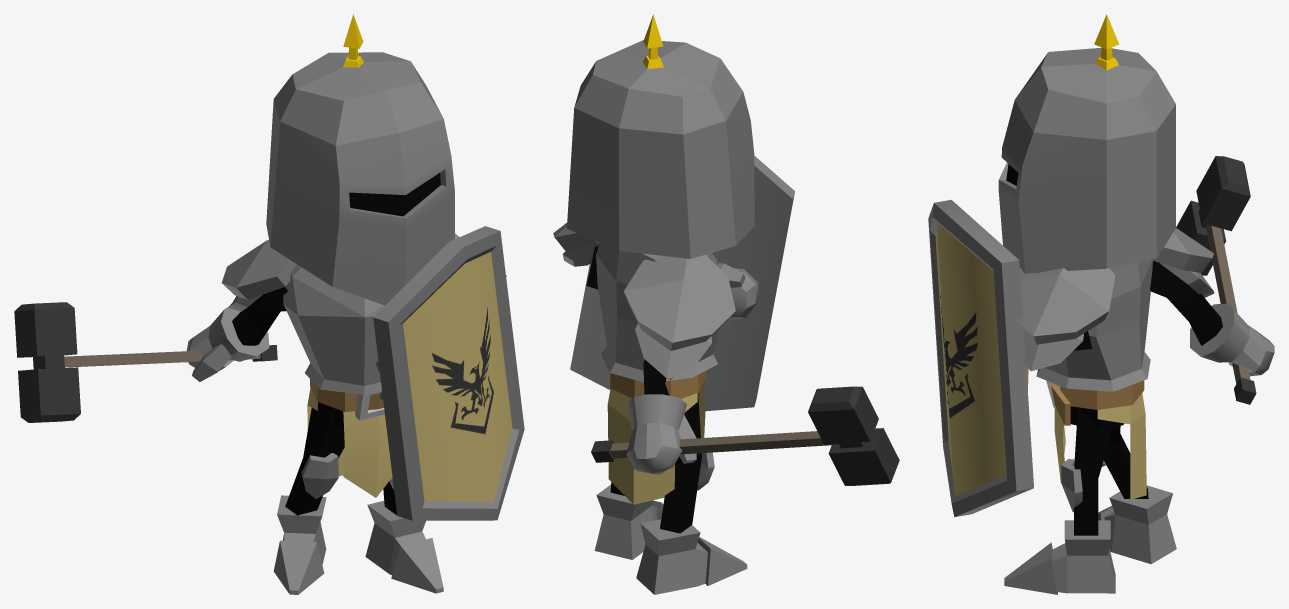
3 renders of one model, left to right at view 1: azimuth 30°, elevation 25°; view 2: azimuth 150°, elevation 25°; view 3: azimuth 270°, elevation 25°, orthographic.
Visible parts, largest first — view 1: Soldier_73; view 2: Soldier_73; view 3: Soldier_73.
Part boxes in pixels (<box>): Soldier_73: <box>14,14,524,594</box>; Soldier_73: <box>553,14,899,594</box>; Soldier_73: <box>928,14,1274,594</box>.
Bounding box in the file's own units: 1.46 × 1.86 × 1.06.
Materials: 10 (1 with a texture image).
